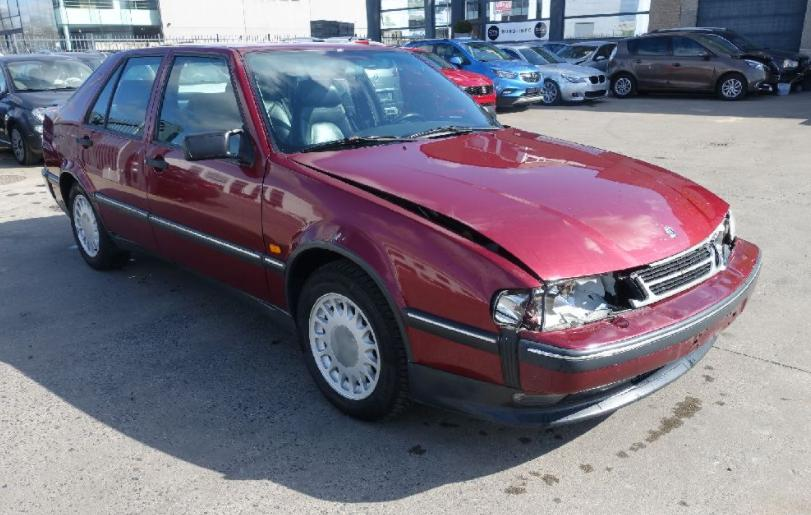Back-bumper: (41, 169, 69, 217)
Back-door: (77, 48, 172, 253)
Back-wheel: (69, 180, 130, 270)
Back-window: (89, 57, 163, 137)
Fender: (261, 154, 541, 323)
Front-bumper: (376, 237, 762, 429)
Front-door: (143, 48, 270, 303)
Front-wheel: (297, 258, 411, 422)
Front-window: (158, 56, 244, 145)
Grille: (619, 236, 726, 307)
Headlight: (494, 277, 628, 335), (710, 209, 731, 262)
Hood: (291, 127, 730, 281)
Mirror: (182, 124, 257, 166)
Quarter-panel: (43, 110, 101, 216)
Rocker-panel: (107, 229, 298, 333)
Roof: (146, 42, 403, 55)
Windshield: (244, 48, 504, 154)
